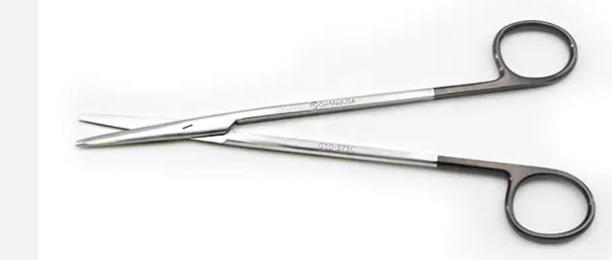Metzenbaum Sciccors: (78, 9, 600, 245)
